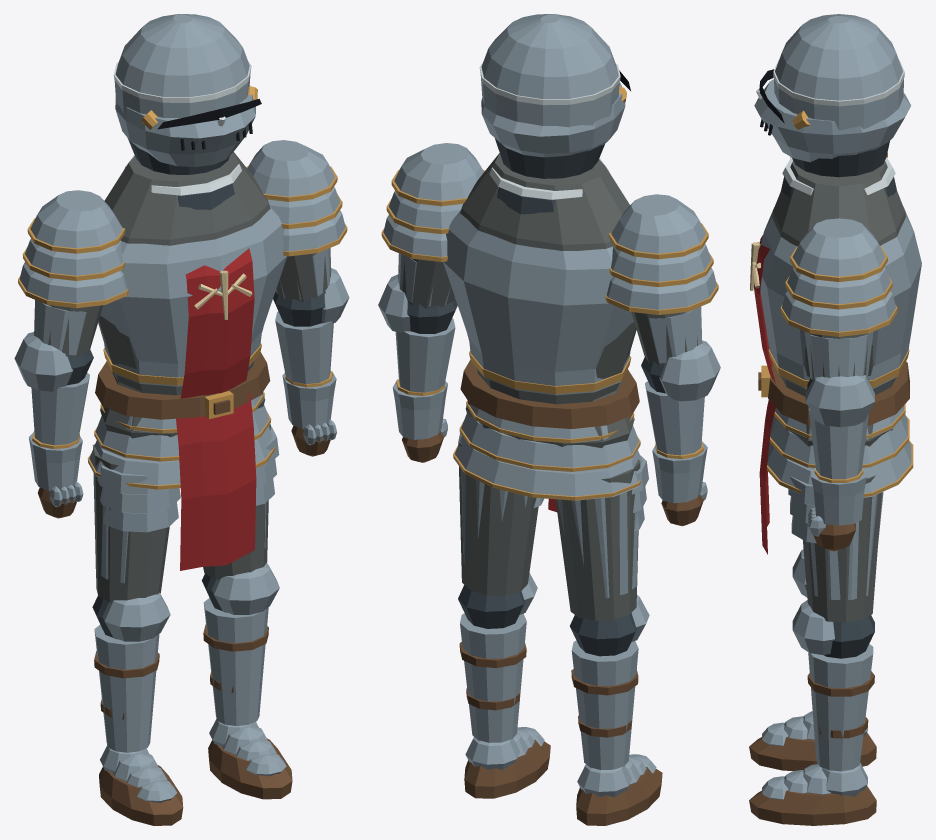
Rendered from knight.glb.
3 renders of one model, left to right at view 1: azimuth 30°, elevation 25°; view 2: azimuth 150°, elevation 25°; view 3: azimuth 270°, elevation 25°, orthographic. The views are drawn at different scales.
Parts seen in each view (by area): view 1: Chest_mesh, Hips_mesh, Head_mesh, ShinR_mesh, ShinL_mesh, UpperArmR_mesh, UpperArmL_mesh, ThighR_mesh, ForearmR_mesh, ForearmL_mesh, HandR_mesh, HandL_mesh (+1 smaller); view 2: Chest_mesh, Head_mesh, Hips_mesh, ShinR_mesh, UpperArmR_mesh, ShinL_mesh, UpperArmL_mesh, ThighR_mesh, ThighL_mesh, ForearmR_mesh, ForearmL_mesh, HandR_mesh (+1 smaller); view 3: Head_mesh, Chest_mesh, ShinL_mesh, UpperArmL_mesh, Hips_mesh, ThighL_mesh, ForearmL_mesh, ShinR_mesh, HandL_mesh.
Part boxes in pixels (bbox=[...]): Chest_mesh: bbox=[98, 152, 287, 398]; Hips_mesh: bbox=[87, 352, 275, 570]; Head_mesh: bbox=[113, 14, 261, 174]; ShinR_mesh: bbox=[92, 592, 183, 825]; ShinL_mesh: bbox=[201, 563, 292, 799]; UpperArmR_mesh: bbox=[18, 190, 128, 357]; UpperArmL_mesh: bbox=[246, 140, 347, 301]; ThighR_mesh: bbox=[92, 444, 180, 602]; ForearmR_mesh: bbox=[14, 332, 93, 448]; ForearmL_mesh: bbox=[273, 268, 349, 387]; HandR_mesh: bbox=[28, 431, 83, 518]; HandL_mesh: bbox=[282, 371, 336, 456]; Chest_mesh: bbox=[443, 153, 636, 404]; Head_mesh: bbox=[479, 14, 630, 178]; Hips_mesh: bbox=[453, 360, 642, 512]; ShinR_mesh: bbox=[570, 595, 662, 825]; UpperArmR_mesh: bbox=[605, 194, 718, 365]; ShinL_mesh: bbox=[458, 573, 550, 798]; UpperArmL_mesh: bbox=[381, 143, 484, 308]; ThighR_mesh: bbox=[555, 455, 648, 620]; ThighL_mesh: bbox=[458, 433, 544, 595]; ForearmR_mesh: bbox=[641, 340, 720, 459]; ForearmL_mesh: bbox=[378, 274, 457, 395]; HandR_mesh: bbox=[652, 441, 707, 526]; Head_mesh: bbox=[754, 14, 911, 177]; Chest_mesh: bbox=[750, 157, 921, 396]; ShinL_mesh: bbox=[749, 600, 876, 825]; UpperArmL_mesh: bbox=[780, 218, 897, 380]; Hips_mesh: bbox=[758, 361, 913, 554]; ThighL_mesh: bbox=[788, 475, 883, 622]; ForearmL_mesh: bbox=[805, 375, 874, 482]; ShinR_mesh: bbox=[749, 549, 876, 770]; HandL_mesh: bbox=[808, 467, 866, 551].
Bounding box in the file's own units: 0.848 × 1.9 × 0.39.
